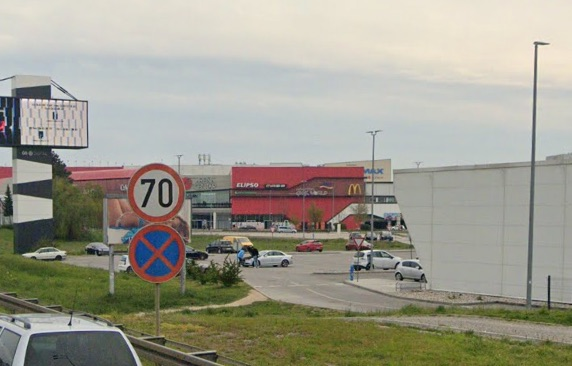Ograničenje brzine 70: (127, 163, 185, 223)
